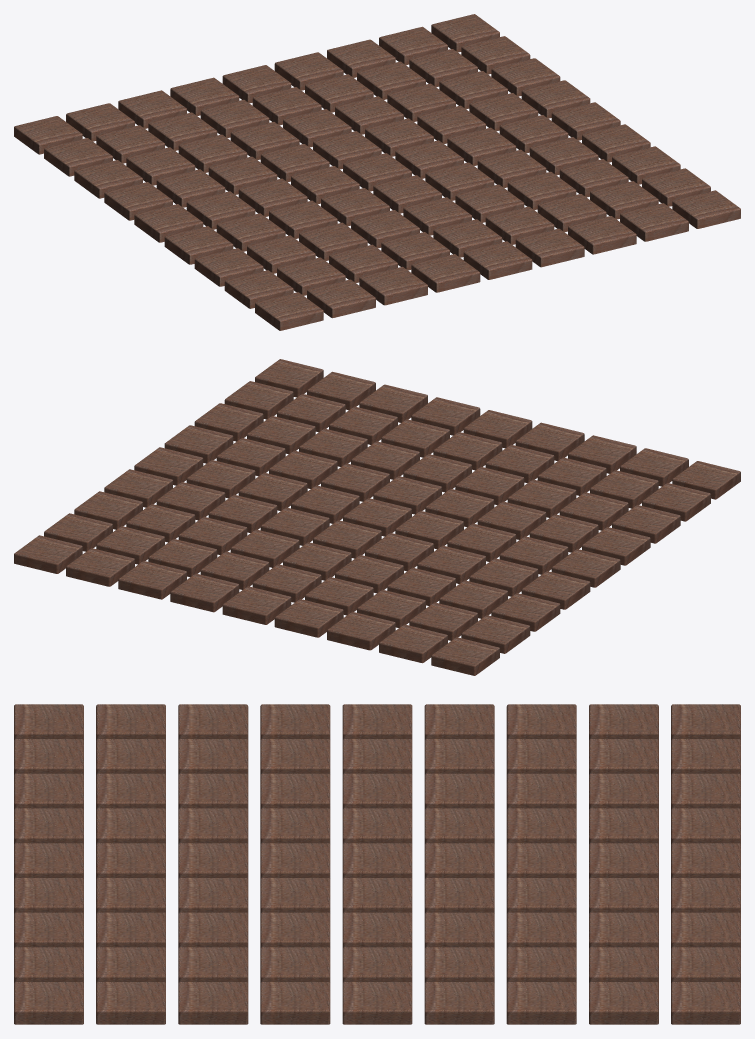
The model's file is Field.fbx.
3 views of the same model, one above another, from view 1: azimuth 30°, elevation 25°; view 2: azimuth 150°, elevation 25°; view 3: azimuth 270°, elevation 25° (orthographic). The views are drawn at different scales.
Visible parts, largest first — view 1: Field; view 2: Field; view 3: Field.
Boxes of the visible parts, x1,y1,x2,y2 form: Field: [14, 14, 740, 330]; Field: [14, 359, 740, 675]; Field: [14, 704, 740, 1024].
Size of the model in its own units: 1195 by 25 by 1195.
